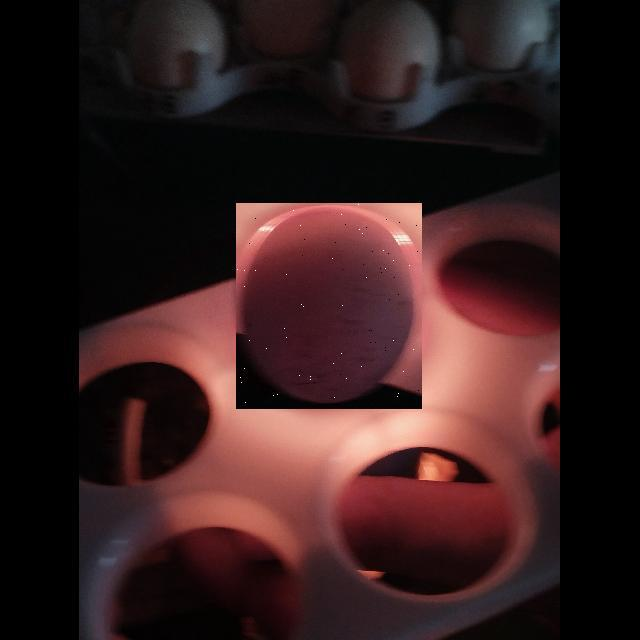Fertile: (236, 203, 422, 409)
